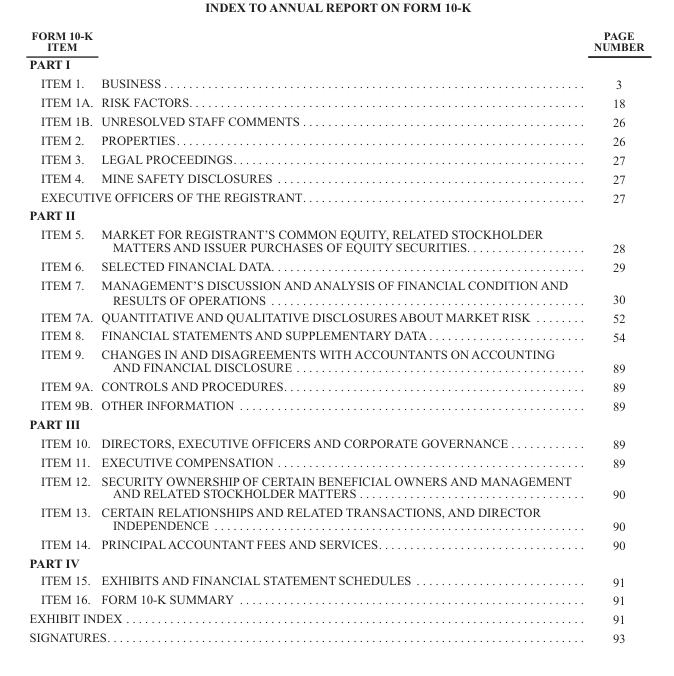table: (28, 29, 643, 645)
table column: (96, 29, 581, 645), (28, 29, 96, 645), (581, 29, 643, 645)
table column header: (28, 29, 643, 54)
table projected row header: (28, 54, 643, 73), (28, 414, 643, 433), (28, 206, 643, 224), (28, 553, 643, 571)
table row: (28, 275, 643, 308), (28, 224, 643, 256), (28, 471, 643, 503), (28, 345, 643, 376), (28, 503, 643, 534), (28, 29, 643, 54), (28, 54, 643, 73), (28, 73, 643, 92), (28, 92, 643, 111), (28, 111, 643, 130), (28, 130, 643, 149), (28, 149, 643, 168), (28, 168, 643, 187), (28, 187, 643, 206), (28, 256, 643, 275), (28, 326, 643, 345), (28, 376, 643, 395), (28, 395, 643, 414), (28, 414, 643, 433), (28, 433, 643, 452), (28, 452, 643, 471), (28, 534, 643, 553), (28, 571, 643, 590), (28, 590, 643, 609), (28, 609, 643, 628), (28, 206, 643, 224), (28, 308, 643, 326), (28, 553, 643, 571), (28, 628, 643, 645)
table spanning cell: (28, 187, 581, 206), (28, 609, 581, 628), (28, 628, 581, 645)
